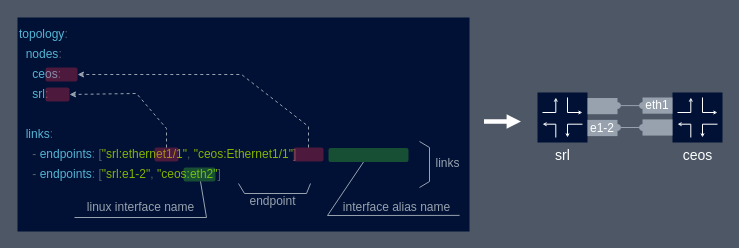
This 739x248 diagram has some shape labels left out. Here are the shapes that lost their labels. From the top down, the box of each, then its label:
(587, 98, 617, 114): e1-1
(642, 119, 672, 135): eth2
